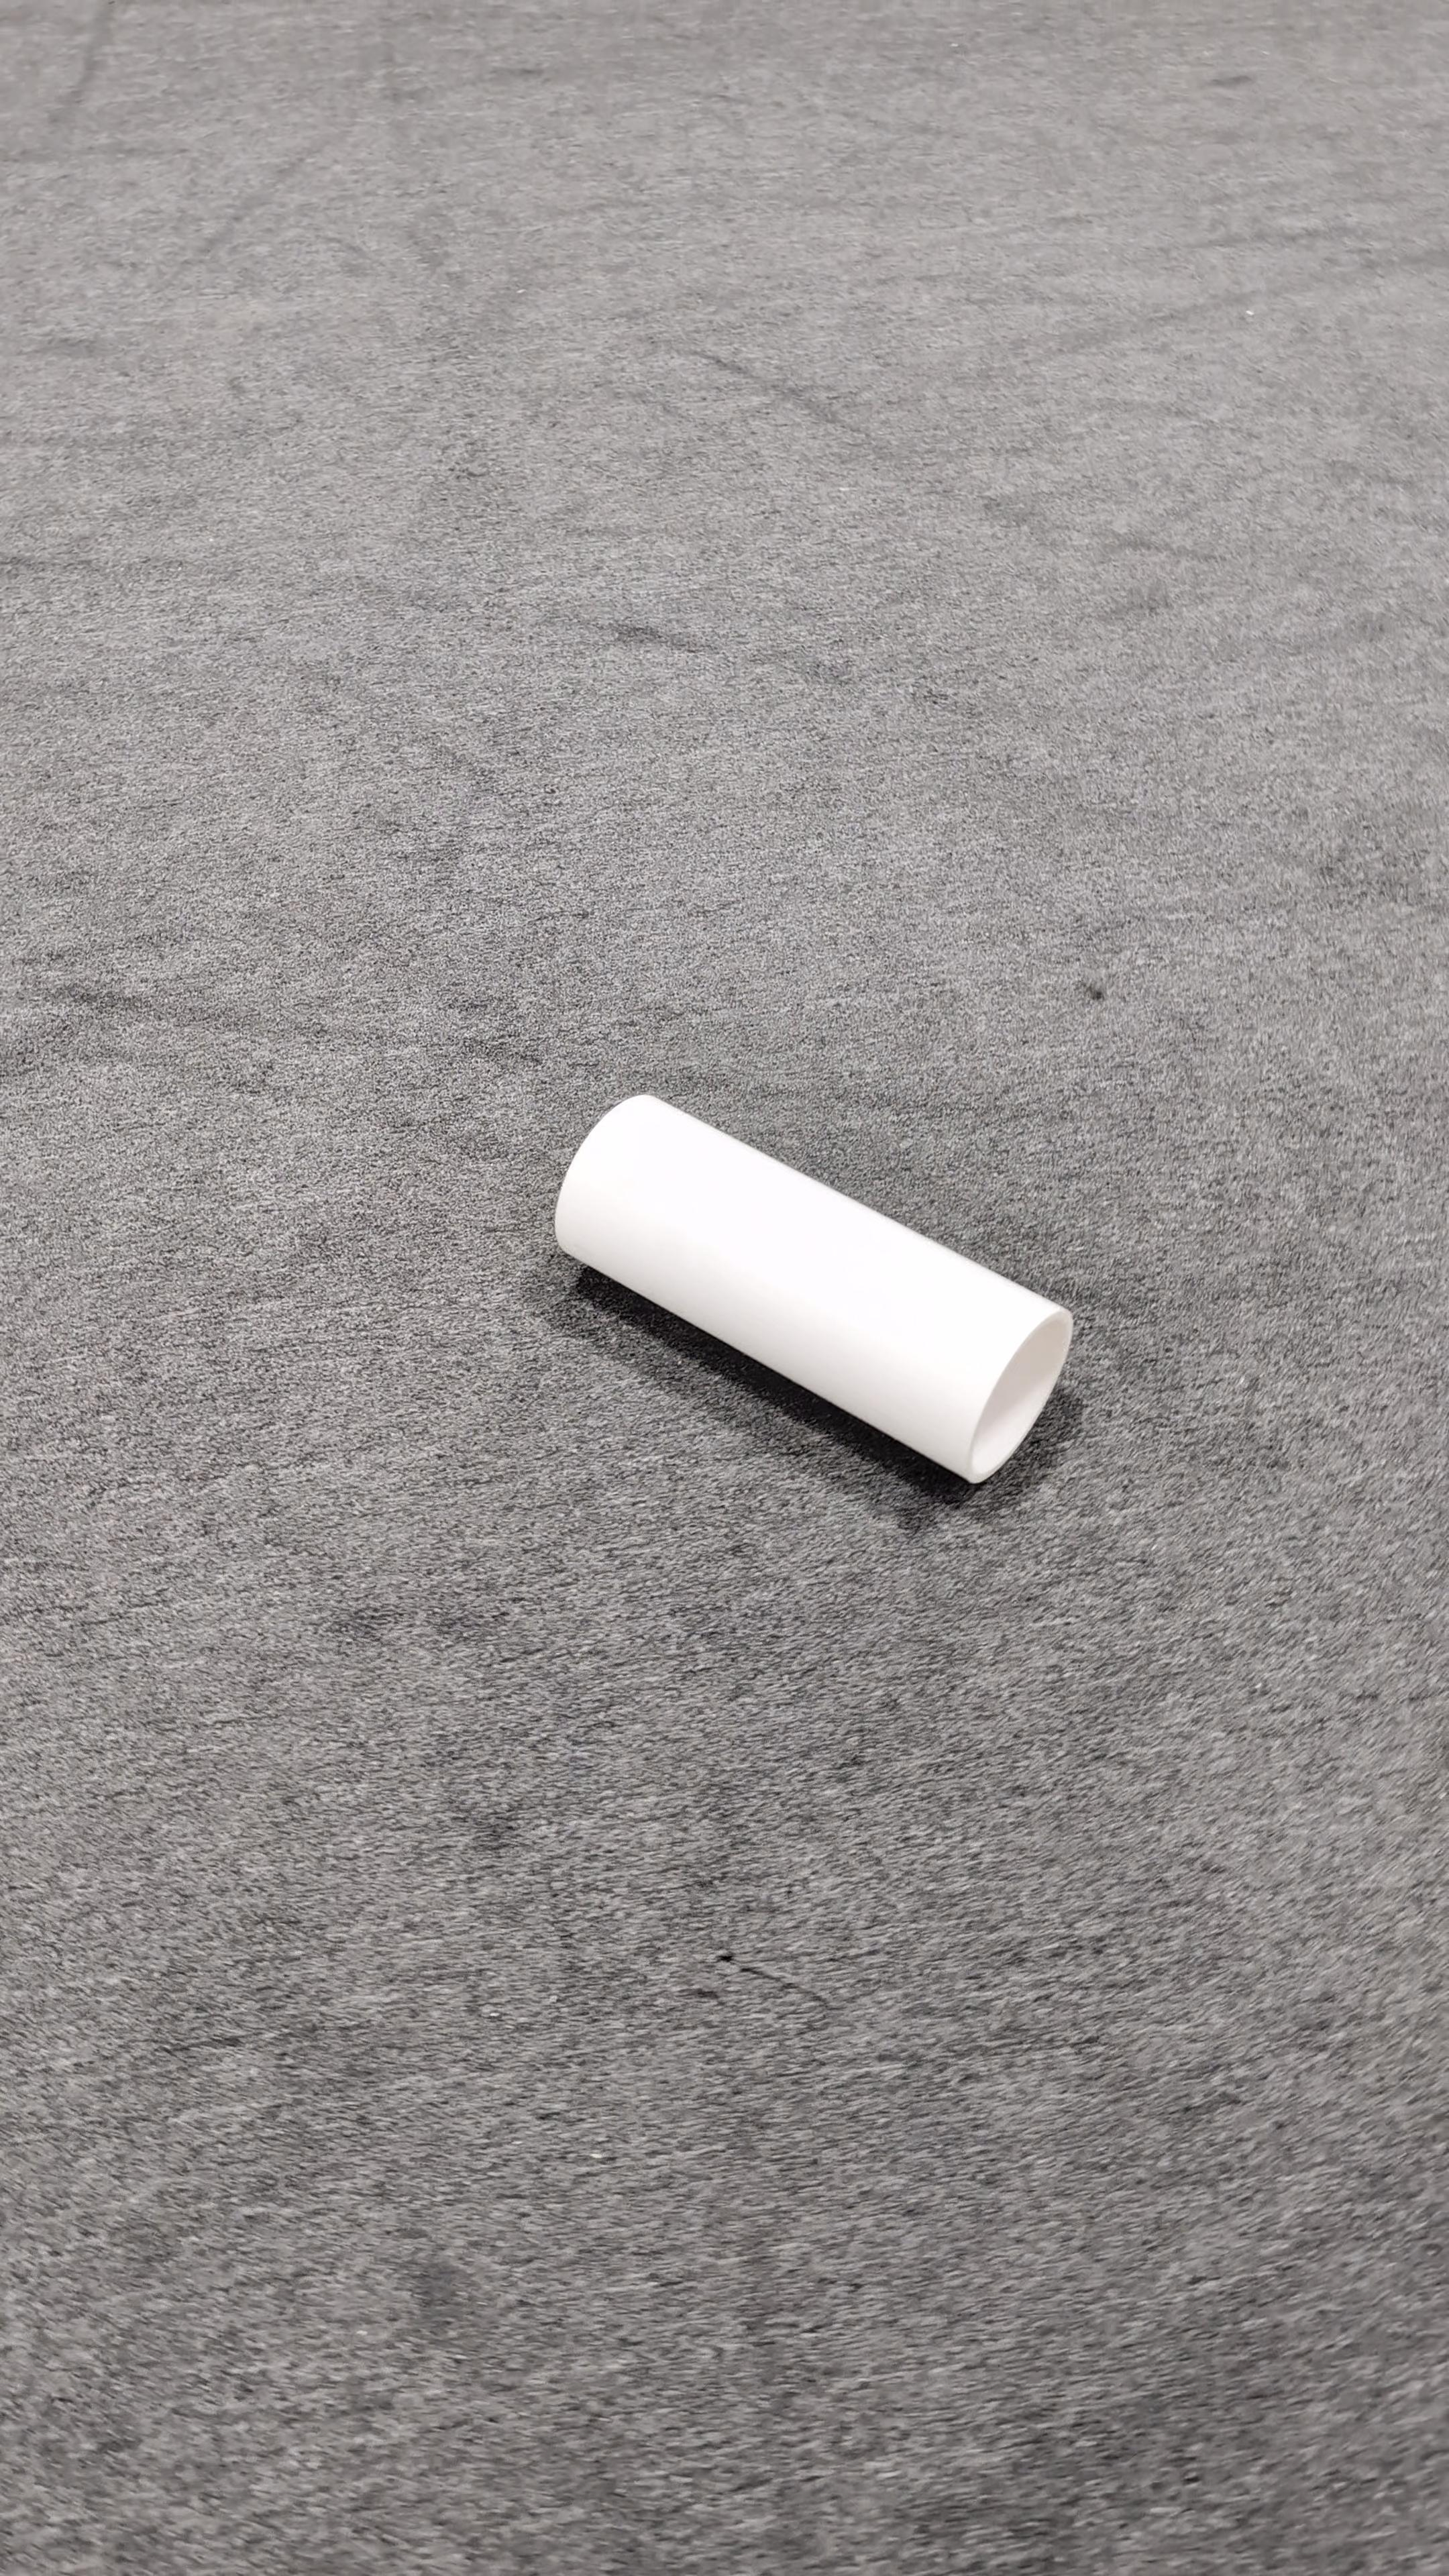coral: (552, 1088, 1076, 1486)
